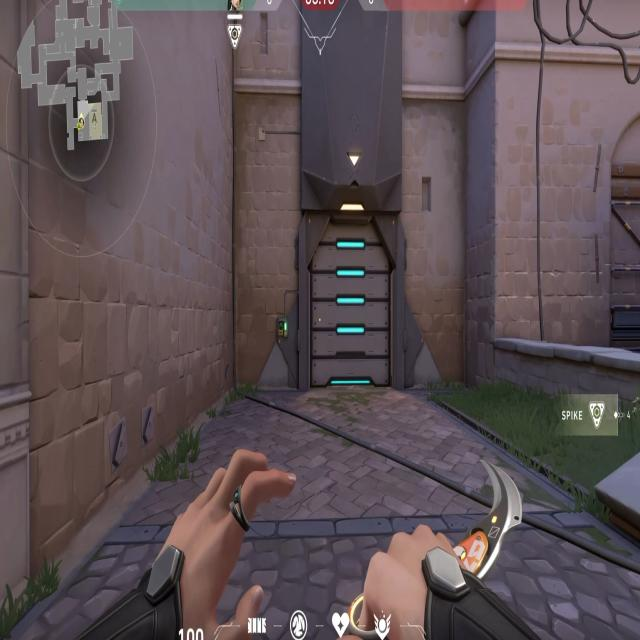A_Door: (296, 174, 410, 402)
